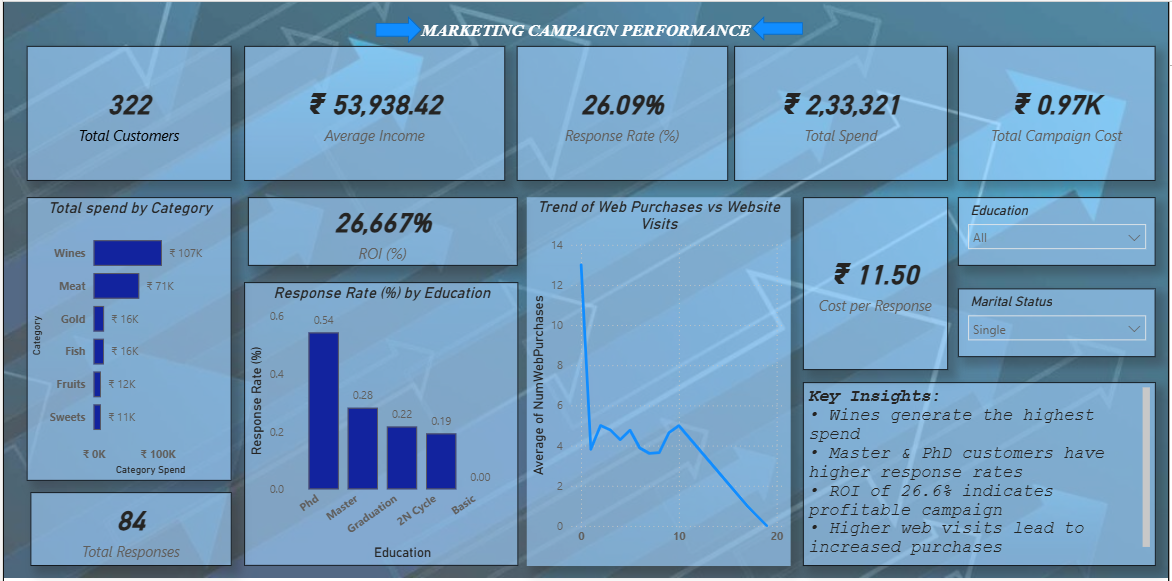

The dashboard page shown, as its layout file describes it:
{"tool":"powerbi","page":{"name":"Page 1","canvas":[1280,720],"ordinal":0},"visuals":[{"type":"card","fields":{"Values":["Sheet1.Total Customers"]},"box":[26.1,93.3,225,148.2],"z":0},{"type":"textbox","box":[349.9,60.4,580.4,46.7],"z":1000},{"type":"card","fields":{"Values":["Sheet1.Average Income"]},"box":[264.8,93.3,286.8,148.2],"z":2000},{"type":"card","fields":{"Values":["Sheet1.Response Rate (%)"]},"box":[564,93.3,231.9,148.2],"z":3000},{"type":"card","fields":{"Values":["Sum(Sheet1.Total_spend)"]},"box":[802.7,93.3,234.6,148.2],"z":4000},{"type":"clusteredColumnChart","fields":{"Category":["Sheet1.Education"],"Y":["Sheet1.Response Rate (%)"]},"box":[264.8,352.7,300.5,311.5],"z":5000},{"type":"card","fields":{"Values":["Sheet1.Total Campaign Cost"]},"box":[1048.4,93.3,216.8,148.2],"z":6000},{"type":"clusteredBarChart","title":"Total spend by Category","fields":{"Y":["ProductCategory.Category Spend"],"Category":["ProductCategory.Category"]},"box":[26,259,225,311],"z":7000},{"type":"card","fields":{"Values":["ProductCategory.ROI (%)"]},"box":[269,259.3,296.4,75.5],"z":8000},{"type":"card","fields":{"Values":["ProductCategory.Total Responses"]},"box":[30.2,583.2,220.9,81],"z":9000},{"type":"shape","box":[408.9,60.4,50.8,30.2],"z":10000},{"type":"shape","box":[822,60.4,56.3,27.4],"z":11000},{"type":"actionButton","box":[0,0,100,40],"z":12000},{"type":"lineChart","title":"Trend of Web Purchases vs Website Visits","fields":{"Category":["Sheet1.NumWebVisitsMonth"],"Y":["Avg(Sheet1.NumWebPurchases)"]},"box":[575,259.3,289.5,404.8],"z":13000},{"type":"textbox","box":[878.2,462.4,387,201.7],"z":14000},{"type":"card","fields":{"Values":["ProductCategory.Cost per Response"]},"box":[878.2,259.3,159.2,189.4],"z":15000},{"type":"slicer","fields":{"Values":["Sheet1.Education"]},"box":[1048.4,259.3,216.8,75.5],"z":16000},{"type":"slicer","fields":{"Values":["Sheet1.Marital_Status"]},"box":[1048.4,359.5,216.8,75.5],"z":17000}]}

Visuals, with their boxes on the page's 1280x720 design canvas (x1, y1, x2, y2). These are canvas units, not pixel positions in the 1172x581 screenshot, which may show the page scaled, cropped or inside an application window:
card - Sheet1.Total Customers: rect(26, 93, 251, 242)
textbox: rect(350, 60, 930, 107)
card - Sheet1.Average Income: rect(265, 93, 552, 242)
card - Sheet1.Response Rate (%): rect(564, 93, 796, 242)
card - Sum(Sheet1.Total_spend): rect(803, 93, 1037, 242)
clusteredColumnChart - Sheet1.Education x Sheet1.Response Rate (%): rect(265, 353, 565, 664)
card - Sheet1.Total Campaign Cost: rect(1048, 93, 1265, 242)
"Total spend by Category" clusteredBarChart: rect(26, 259, 251, 570)
card - ProductCategory.ROI (%): rect(269, 259, 565, 335)
card - ProductCategory.Total Responses: rect(30, 583, 251, 664)
shape: rect(409, 60, 460, 91)
shape: rect(822, 60, 878, 88)
actionButton: rect(0, 0, 100, 40)
"Trend of Web Purchases vs Website Visits" lineChart: rect(575, 259, 864, 664)
textbox: rect(878, 462, 1265, 664)
card - ProductCategory.Cost per Response: rect(878, 259, 1037, 449)
slicer - Sheet1.Education: rect(1048, 259, 1265, 335)
slicer - Sheet1.Marital_Status: rect(1048, 360, 1265, 435)
